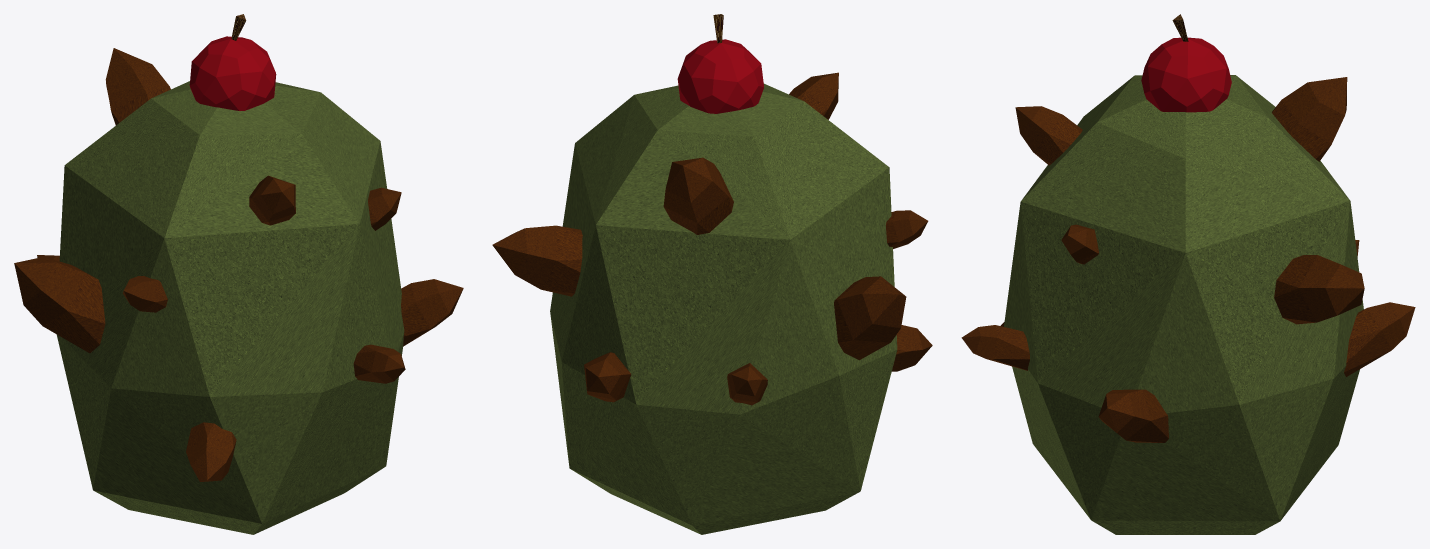
The model's file is tree3.obj.
The picture shows the model from 3 angles, left to right: view 1: azimuth 30°, elevation 25°; view 2: azimuth 150°, elevation 25°; view 3: azimuth 270°, elevation 25°; orthographic projection. The views are drawn at different scales.
Parts seen in each view (by area): view 1: Icosphere, Icosphere.012_Icosphere.036, Icosphere.006; view 2: Icosphere, Icosphere.012_Icosphere.036, Icosphere.006; view 3: Icosphere, Icosphere.012_Icosphere.036, Icosphere.006.
Part boxes in pixels (bbox=[...]): Icosphere: bbox=[56, 81, 404, 534]; Icosphere.012_Icosphere.036: bbox=[14, 48, 463, 481]; Icosphere.006: bbox=[189, 36, 276, 110]; Icosphere: bbox=[550, 83, 897, 534]; Icosphere.012_Icosphere.036: bbox=[492, 72, 932, 405]; Icosphere.006: bbox=[677, 39, 763, 113]; Icosphere: bbox=[1004, 75, 1363, 534]; Icosphere.012_Icosphere.036: bbox=[961, 77, 1415, 442]; Icosphere.006: bbox=[1141, 37, 1231, 112].
Size of the model in its own units: 0.9112 by 1.09 by 0.8977.
Materials: 4 (4 with a texture image).
